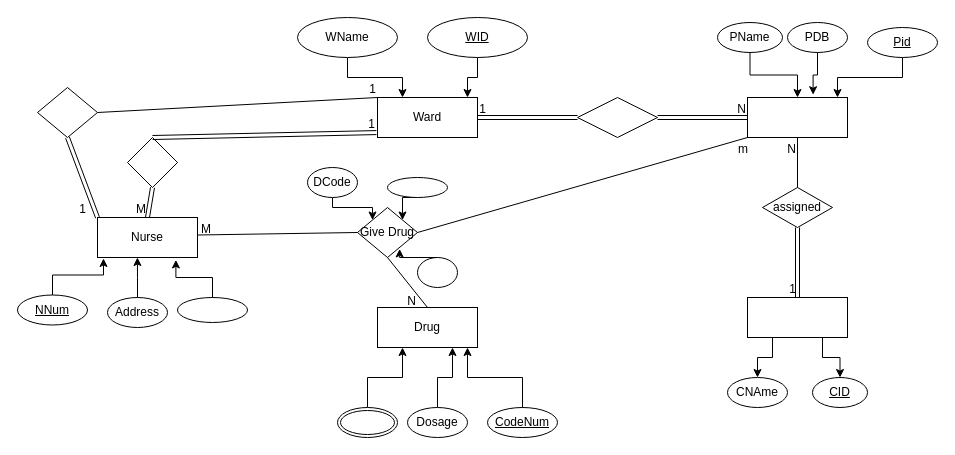
The diagram is 955 pixels wide and 455 high, and some of its shapes have lost their labels. The shapes that lost their labels are listed below. From the top down, each one's centre as x and y in pixels, then its label:
At [67,112]: "Manage".
At [617,117]: "host".
At [797,117]: "Patient".
At [152,162]: "Serve".
At [417,187]: "ADosage".
At [437,272]: "Time".
At [212,309]: "Name".
At [797,317]: "Consultant".
At [367,422]: "Brand".
